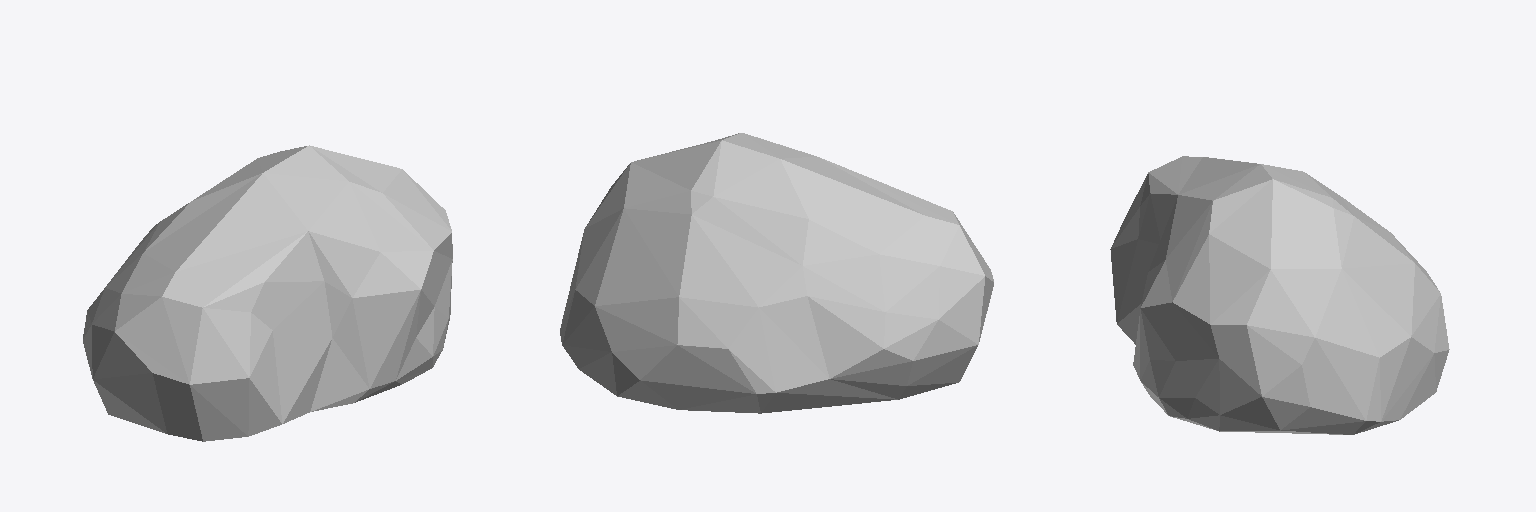
File: Forest_B_Rock_03.obj
3 renders of one model, left to right at view 1: azimuth 30°, elevation 25°; view 2: azimuth 150°, elevation 25°; view 3: azimuth 270°, elevation 25°, orthographic.
Visible parts, largest first — view 1: Forest_B_Rock_03; view 2: Forest_B_Rock_03; view 3: Forest_B_Rock_03.
Boxes of the visible parts, box(x1,y1,x2,y2) form: Forest_B_Rock_03: box(83, 145, 452, 441); Forest_B_Rock_03: box(560, 133, 993, 413); Forest_B_Rock_03: box(1110, 156, 1449, 434).
Size of the model in its own units: 178 by 91.98 by 140.